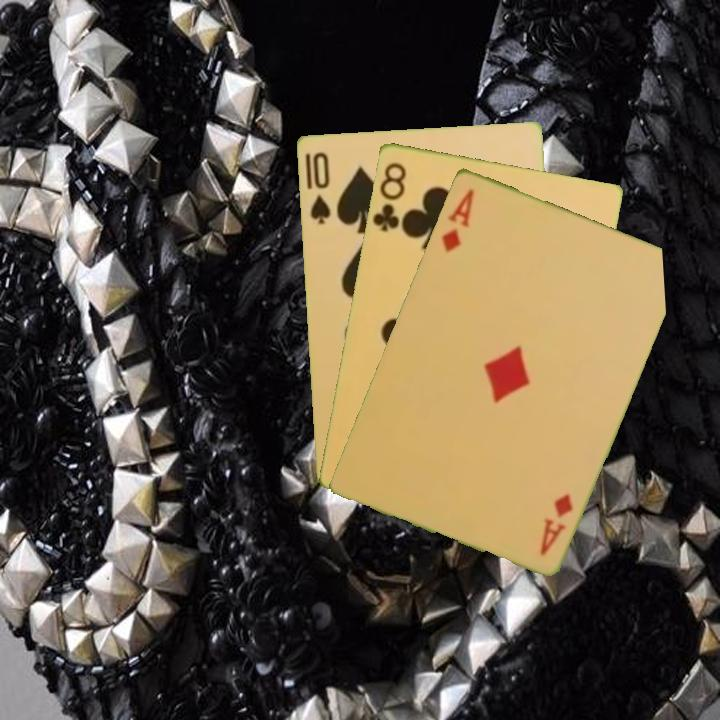10s: (306, 148, 333, 227)
8c: (369, 158, 409, 235)
Ad: (437, 184, 477, 255), (536, 489, 576, 558)
